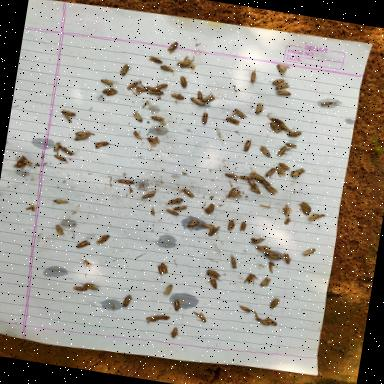pbw: (12, 154, 32, 170), (252, 242, 274, 256), (93, 138, 115, 152), (178, 54, 196, 70), (44, 197, 68, 209), (164, 194, 184, 208), (165, 38, 181, 55), (200, 88, 218, 103), (247, 66, 259, 88), (228, 106, 248, 119), (226, 252, 240, 270), (234, 302, 252, 316), (274, 62, 292, 76), (273, 80, 294, 92), (67, 132, 89, 143), (118, 62, 133, 78), (285, 127, 305, 139), (154, 261, 171, 275), (147, 112, 166, 124), (94, 232, 110, 246), (124, 78, 140, 92), (274, 144, 290, 158), (190, 309, 207, 322), (112, 176, 134, 186), (136, 190, 154, 202), (52, 152, 70, 164), (134, 79, 148, 94), (271, 76, 290, 87), (266, 121, 282, 134), (300, 246, 317, 258), (202, 272, 222, 282), (160, 206, 180, 216), (168, 202, 188, 212), (274, 86, 294, 96), (258, 144, 272, 158), (306, 210, 320, 224), (264, 164, 278, 178), (242, 272, 256, 286), (267, 295, 280, 310), (76, 238, 92, 250), (240, 136, 252, 152), (120, 292, 132, 308), (158, 62, 177, 72), (266, 260, 279, 274), (146, 54, 164, 64), (178, 73, 190, 88), (148, 88, 168, 97), (145, 136, 160, 148), (291, 166, 306, 178), (80, 281, 100, 290), (204, 268, 222, 278), (100, 85, 116, 96), (248, 172, 264, 183), (263, 184, 279, 195), (251, 317, 270, 326), (188, 96, 205, 106), (206, 224, 219, 237), (205, 275, 218, 288), (54, 222, 66, 236), (258, 276, 272, 288), (130, 110, 144, 122), (98, 78, 119, 86), (52, 140, 64, 154), (170, 297, 181, 312), (224, 169, 240, 179), (262, 316, 278, 326), (224, 116, 240, 126), (238, 174, 258, 182), (144, 314, 160, 324), (132, 128, 145, 140), (274, 165, 287, 177), (162, 283, 174, 296), (186, 218, 198, 231), (253, 101, 264, 115), (182, 187, 196, 198), (73, 128, 92, 136), (153, 81, 168, 91), (58, 108, 76, 116), (144, 84, 162, 92), (170, 90, 184, 100), (200, 107, 208, 124), (70, 284, 87, 292), (282, 251, 292, 264), (198, 222, 214, 230), (251, 236, 267, 244), (244, 179, 258, 188), (248, 184, 262, 193), (278, 161, 292, 170), (155, 313, 170, 321), (283, 141, 298, 149), (169, 326, 179, 338), (196, 89, 205, 100), (265, 251, 280, 257), (238, 220, 246, 231), (62, 114, 72, 122), (156, 264, 164, 274), (264, 254, 279, 258)
